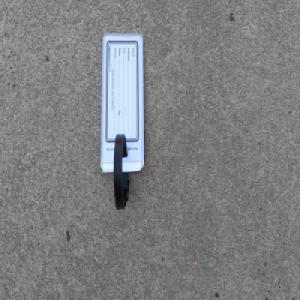LuggageTag: (98, 32, 145, 215)
